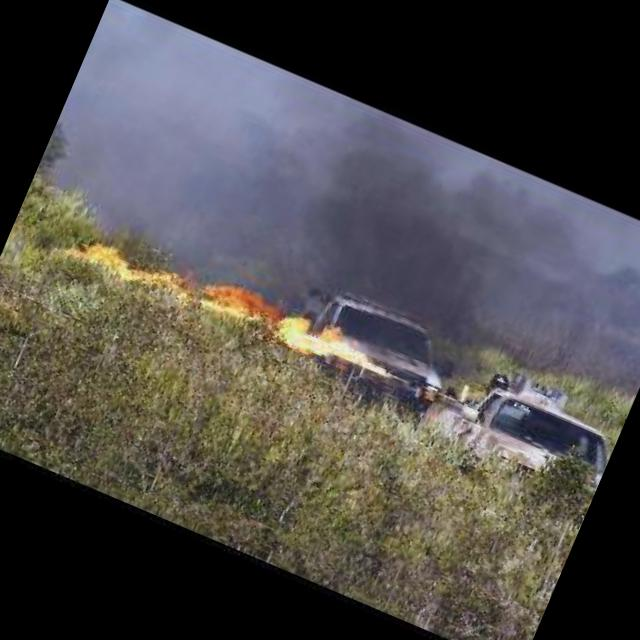fire: (59, 215, 408, 398)
smoke: (215, 77, 552, 355)
